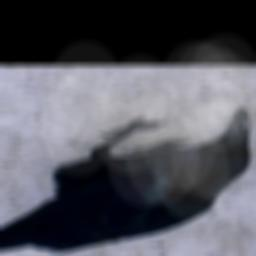Crow: (0, 108, 249, 256)
